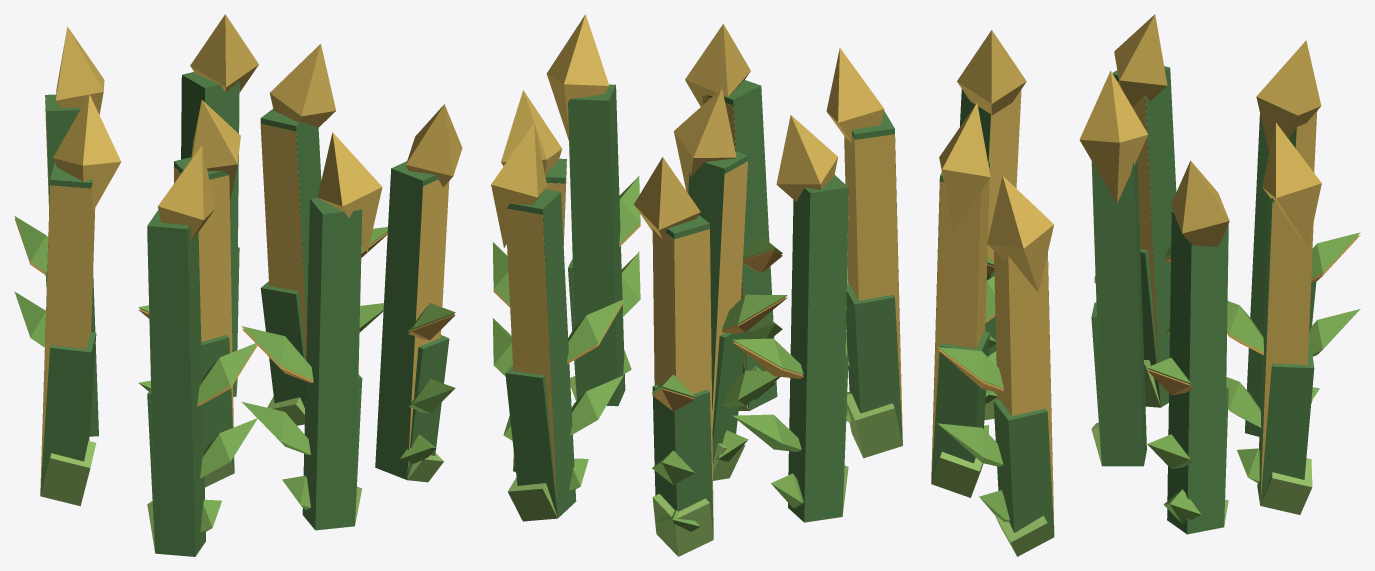
Rendered from wheat.glb.
3 views of the same model, side by side, from view 1: azimuth 30°, elevation 25°; view 2: azimuth 150°, elevation 25°; view 3: azimuth 270°, elevation 25° (orthographic).
Parts seen in each view (by area): view 1: decor_wheat_stalk.016, decor_wheat_stalk.017, decor_wheat_stalk.018, decor_wheat_stalk.027, decor_wheat_stalk.029, decor_wheat_stalk.011, decor_wheat_stalk.028, decor_wheat_stalk.023, decor_wheat_stalk.026, Heavy_golden_ear.003, Heavy_golden_ear.001, Heavy_golden_ear.005 (+23 smaller); view 2: decor_wheat_stalk.019, decor_wheat_stalk.018, decor_wheat_stalk.030, decor_wheat_stalk.024, decor_wheat_stalk.031, decor_wheat_stalk.023, decor_wheat_stalk.008, decor_wheat_stalk.017, decor_wheat_stalk.014, decor_wheat_stalk.015, decor_wheat_stalk.028, Heavy_golden_ear.002 (+33 smaller); view 3: decor_wheat_stalk.021, decor_wheat_stalk.020, decor_wheat_stalk.026, decor_wheat_stalk.025, decor_wheat_stalk.031, decor_wheat_stalk.010, decor_wheat_stalk.019, decor_wheat_stalk.015, Heavy_golden_ear.004, Heavy_golden_ear.002, decor_wheat_stalk.009, Heavy_golden_ear.007 (+26 smaller).
Boxes of the visible parts, x1,y1,x2,y2 form: decor_wheat_stalk.016: [147, 210, 205, 556]; decor_wheat_stalk.017: [302, 198, 362, 530]; decor_wheat_stalk.018: [375, 161, 438, 479]; decor_wheat_stalk.027: [40, 184, 95, 492]; decor_wheat_stalk.029: [260, 124, 306, 360]; decor_wheat_stalk.011: [40, 332, 96, 494]; decor_wheat_stalk.028: [174, 167, 234, 469]; decor_wheat_stalk.023: [181, 72, 239, 396]; decor_wheat_stalk.026: [407, 179, 449, 476]; Heavy_golden_ear.003: [53, 94, 121, 212]; Heavy_golden_ear.001: [317, 132, 382, 252]; Heavy_golden_ear.005: [269, 44, 335, 127]; decor_wheat_stalk.019: [788, 175, 848, 522]; decor_wheat_stalk.018: [568, 84, 625, 406]; decor_wheat_stalk.030: [652, 229, 713, 529]; decor_wheat_stalk.024: [844, 134, 902, 442]; decor_wheat_stalk.031: [505, 208, 557, 517]; decor_wheat_stalk.023: [506, 189, 576, 517]; decor_wheat_stalk.008: [846, 284, 902, 444]; decor_wheat_stalk.017: [705, 80, 777, 410]; decor_wheat_stalk.014: [652, 384, 713, 536]; decor_wheat_stalk.015: [505, 365, 557, 516]; decor_wheat_stalk.028: [712, 161, 747, 432]; Heavy_golden_ear.002: [546, 14, 609, 140]; decor_wheat_stalk.021: [1167, 211, 1228, 534]; decor_wheat_stalk.020: [1092, 159, 1146, 466]; decor_wheat_stalk.026: [994, 251, 1054, 531]; decor_wheat_stalk.025: [931, 168, 989, 478]; decor_wheat_stalk.031: [1260, 202, 1313, 502]; decor_wheat_stalk.010: [993, 399, 1054, 536]; decor_wheat_stalk.019: [1112, 66, 1176, 407]; decor_wheat_stalk.015: [1260, 347, 1314, 504]; Heavy_golden_ear.004: [1079, 70, 1148, 203]; Heavy_golden_ear.002: [987, 176, 1053, 292]; decor_wheat_stalk.009: [931, 331, 989, 482]; Heavy_golden_ear.007: [1262, 123, 1321, 247].
Bounding box in the file's own units: 0.647 × 0.6979 × 0.6639.
